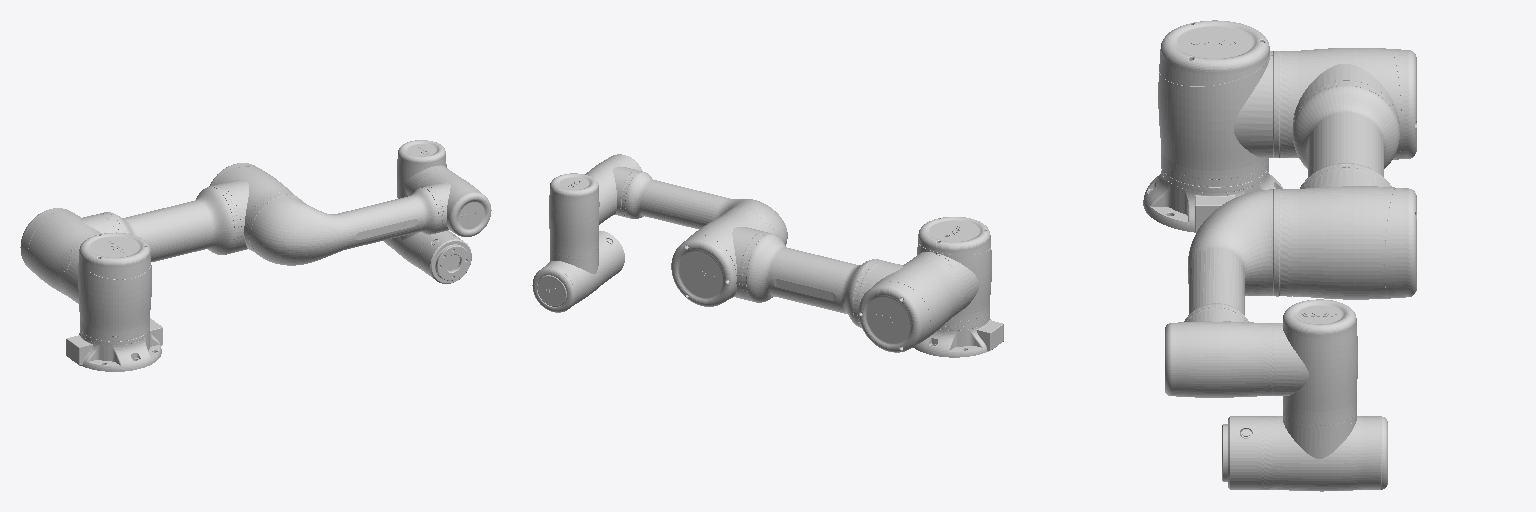
URDF robot description (jaka_zu7):
<?xml version="1.0" encoding="utf-8" ?>
<!-- This URDF was automatically created by SolidWorks to URDF Exporter! Originally created by [author] ([email redacted]) 
     Commit Version: 1.5.1-0-g916b5db  Build Version: 1.5.7152.31018
     For more information, please see http://wiki.ros.org/sw_urdf_exporter -->
<robot name="jaka_zu7">
    <!-- LINK -->
    <link name="world" />

    <link name="Link_0">     
        <inertial>
            <origin xyz="0.00096371 8.8222E-08 0.019555" rpy="0 0 0" />
            <mass value="4.0392" />
            <inertia ixx="0.0048763" ixy="-1.8056E-07" ixz="2.5196E-05" iyy="0.0068003" iyz="-1.7678E-09" izz="0.010618" />
        </inertial>

        <visual>
            <origin xyz="0 0 0" rpy="0 0 0" />
            <geometry>
                <mesh filename="package://jaka_description/meshes/jaka_zu7_meshes/Link_0.STL" />
            </geometry>
            <material name="">
                <color rgba="0.84706 0.84706 0.84706 1" />
            </material>
        </visual>
        <collision>
            <origin xyz="0 0 0" rpy="0 0 0" />
            <geometry>
                <mesh filename="package://jaka_description/meshes/jaka_zu7_meshes/Link_0.STL" />
            </geometry>
        </collision>
    </link>

    <link name="Link_1">   
        <inertial>
            <origin xyz="-2.5186E-07 0.0033226 -0.001509" rpy="0 0 0" />
            <mass value="15.135" />
            <inertia ixx="0.044302" ixy="1.5349E-07" ixz="-6.1966E-07" iyy="0.043091" iyz="1.4326E-05" izz="0.030523" />
        </inertial>

        <visual>
            <origin xyz="0 0 0" rpy="0 0 0" />
            <geometry>
                <mesh filename="package://jaka_description/meshes/jaka_zu7_meshes/Link_1.STL" />
            </geometry>
            <material name="">
                <color rgba="0.84706 0.84706 0.84706 1" />
            </material>
        </visual>
        <collision>
            <origin xyz="0 0 0" rpy="0 0 0" />
            <geometry>
                <mesh filename="package://jaka_description/meshes/jaka_zu7_meshes/Link_1.STL" />
            </geometry>
        </collision>
    </link>

    <link name="Link_2">       
        <inertial>
            <origin xyz="0.18 8.8001E-09 -0.14308" rpy="0 0 0" />
            <mass value="42.872" />
            <inertia ixx="0.1014" ixy="-1.1106E-06" ixz="-1.3363E-07" iyy="1.1119" iyz="2.9045E-08" izz="1.0844" />
        </inertial>

        <visual>
            <origin xyz="0 0 0" rpy="0 0 0" />
            <geometry>
                <mesh filename="package://jaka_description/meshes/jaka_zu7_meshes/Link_2.STL" />
            </geometry>
            <material name="">
                <color rgba="0.84706 0.84706 0.84706 1" />
            </material>
        </visual>
        <collision>
            <origin xyz="0 0 0" rpy="0 0 0" />
            <geometry>
                <mesh filename="package://jaka_description/meshes/jaka_zu7_meshes/Link_2.STL" />
            </geometry>
        </collision>
    </link>

    <link name="Link_3">    
        <inertial>
            <origin xyz="0.15515 5.4643E-08 -0.012576" rpy="0 0 0" />
            <mass value="16.562" />
            <inertia ixx="0.020968" ixy="-3.9001E-06" ixz="-0.018394" iyy="0.28365" iyz="-1.2859E-07" izz="0.27848" />
        </inertial>

        <visual>
            <origin xyz="0 0 0" rpy="0 0 0" />
            <geometry>
                <mesh filename="package://jaka_description/meshes/jaka_zu7_meshes/Link_3.STL" />
            </geometry>
            <material name="">
                <color rgba="0.84706 0.84706 0.84706 1" />
            </material>
        </visual>
        <collision>
            <origin xyz="0 0 0" rpy="0 0 0" />
            <geometry>
                <mesh filename="package://jaka_description/meshes/jaka_zu7_meshes/Link_3.STL" />
            </geometry>
        </collision>
    </link>

    <link name="Link_4">     
        <inertial>
            <origin xyz="-2.1345E-06 -0.0058004 0.0026717" rpy="0 0 0" />
            <mass value="5.5525" />
            <inertia ixx="0.0092564" ixy="1.1341E-07" ixz="-1.2578E-08" iyy="0.0052251" iyz="-8.3499E-05" izz="0.0089683" />
        </inertial>

        <visual>
            <origin xyz="0 0 0" rpy="0 0 0" />
            <geometry>
                <mesh filename="package://jaka_description/meshes/jaka_zu7_meshes/Link_4.STL" />
            </geometry>
            <material name="">
                <color rgba="0.84706 0.84706 0.84706 1" />
            </material>
        </visual>
        <collision>
            <origin xyz="0 0 0" rpy="0 0 0" />
            <geometry>
                <mesh filename="package://jaka_description/meshes/jaka_zu7_meshes/Link_4.STL" />
            </geometry>
        </collision>
    </link>

    <link name="Link_5">     
        <inertial>
            <origin xyz="-2.0304E-06 -0.0028889 -0.0023424" rpy="0 0 0" />
            <mass value="6.3339" />
            <inertia ixx="0.012993" ixy="-1.0764E-07" ixz="5.8559E-09" iyy="0.0058454" iyz="4.5426E-05" izz="0.0127" />
        </inertial>

        <visual>
            <origin xyz="0 0 0" rpy="0 0 0" />
            <geometry>
                <mesh filename="package://jaka_description/meshes/jaka_zu7_meshes/Link_5.STL" />
            </geometry>
            <material name="">
                <color rgba="0.84706 0.84706 0.84706 1" />
            </material>
        </visual>
        <collision>
            <origin xyz="0 0 0" rpy="0 0 0" />
            <geometry>
                <mesh filename="package://jaka_description/meshes/jaka_zu7_meshes/Link_5.STL" />
            </geometry>
        </collision>
    </link>

    <link name="Link_6">  
        <inertial>
            <origin xyz="2.7652E-05 -1.3485E-05 -0.021245" rpy="0 0 0" />
            <mass value="1.4169" />
            <inertia ixx="0.00071853" ixy="-6.9778E-07" ixz="-6.378E-07" iyy="0.00072375" iyz="8.3072E-07" izz="0.0011337" />
        </inertial>

        <visual>
            <origin xyz="0 0 0" rpy="0 0 0" />
            <geometry>
                <mesh filename="package://jaka_description/meshes/jaka_zu7_meshes/Link_6.STL" />
            </geometry>
            <material name="">
                <color rgba="0.84706 0.84706 0.84706 1" />
            </material>
        </visual>
        <collision>
            <origin xyz="0 0 0" rpy="0 0 0" />
            <geometry>
                <mesh filename="package://jaka_description/meshes/jaka_zu7_meshes/Link_6.STL" />
            </geometry>
        </collision>
    </link>

    <!-- JOINT -->
    <joint name="fixed" type="fixed">
        <parent link="world" />
        <child link="Link_0" />
    </joint>

    <joint name="joint_1" type="revolute">
        <origin xyz="0 0 0.12015" rpy="0 0 0" />
        <parent link="Link_0" />
        <child link="Link_1" />
        <axis xyz="0 0 1" />
        <limit lower="-6.28" upper="6.28" effort="2000" velocity="3.14" />
    </joint>

    <joint name="joint_2" type="revolute">
        <origin xyz="0 0 0" rpy="1.5708 0 0" />
        <parent link="Link_1" />
        <child link="Link_2" />
        <axis xyz="0 0 1" />
        <limit lower="-1.48" upper="4.62" effort="1500" velocity="3.14" />
    </joint>

    <joint name="joint_3" type="revolute">
        <origin xyz="0.36 0 0" rpy="0 0 0" />
        <parent link="Link_2" />
        <child link="Link_3" />
        <axis xyz="0 0 1" />
        <limit lower="-3.05" upper="3.05" effort="1500" velocity="3.14" />
    </joint>

    <joint name="joint_4" type="revolute">
        <origin xyz="0.30353 0 -0.11501" rpy="0 0 0" />
        <parent link="Link_3" />
        <child link="Link_4" />
        <axis xyz="0 0 1" />
        <limit lower="-1.48" upper="4.62" effort="1000" velocity="3.14" />
    </joint>

    <joint name="joint_5" type="revolute">
        <origin xyz="0 -0.1135 0" rpy="1.5708 0 0" />
        <parent link="Link_4" />
        <child link="Link_5" />
        <axis xyz="0 0 1" />
        <limit lower="-6.28" upper="6.28" effort="1000" velocity="3.14" />
    </joint>
    
    <joint name="joint_6" type="revolute">
        <origin xyz="0 0.107 0" rpy="-1.5708 0 0" />
        <parent link="Link_5" />
        <child link="Link_6" />
        <axis xyz="0 0 1" />
        <limit lower="-6.28" upper="6.28" effort="1000" velocity="3.14" />
    </joint>
    
    <transmission name="trans_joint_1">
        <type>transmission_interface/SimpleTransmission</type>
        <joint name="joint_1">
            <hardwareInterface>hardware_interface/PositionJointInterface</hardwareInterface>
        </joint>
        <actuator name="joint_1_motor">
            <hardwareInterface>hardware_interface/PositionJointInterface</hardwareInterface>
            <mechanicalReduction>1</mechanicalReduction>
        </actuator>
    </transmission>
    <transmission name="trans_joint_2">
        <type>transmission_interface/SimpleTransmission</type>
        <joint name="joint_2">
            <hardwareInterface>hardware_interface/PositionJointInterface</hardwareInterface>
        </joint>
        <actuator name="joint_2_motor">
            <hardwareInterface>hardware_interface/PositionJointInterface</hardwareInterface>
            <mechanicalReduction>1</mechanicalReduction>
        </actuator>
    </transmission>
    <transmission name="trans_joint_3">
        <type>transmission_interface/SimpleTransmission</type>
        <joint name="joint_3">
            <hardwareInterface>hardware_interface/PositionJointInterface</hardwareInterface>
        </joint>
        <actuator name="joint_3_motor">
            <hardwareInterface>hardware_interface/PositionJointInterface</hardwareInterface>
            <mechanicalReduction>1</mechanicalReduction>
        </actuator>
    </transmission>
    <transmission name="trans_joint_4">
        <type>transmission_interface/SimpleTransmission</type>
        <joint name="joint_4">
            <hardwareInterface>hardware_interface/PositionJointInterface</hardwareInterface>
        </joint>
        <actuator name="joint_4_motor">
            <hardwareInterface>hardware_interface/PositionJointInterface</hardwareInterface>
            <mechanicalReduction>1</mechanicalReduction>
        </actuator>
    </transmission>
    <transmission name="trans_joint_5">
        <type>transmission_interface/SimpleTransmission</type>
        <joint name="joint_5">
            <hardwareInterface>hardware_interface/PositionJointInterface</hardwareInterface>
        </joint>
        <actuator name="joint_5_motor">
            <hardwareInterface>hardware_interface/PositionJointInterface</hardwareInterface>
            <mechanicalReduction>1</mechanicalReduction>
        </actuator>
    </transmission>
    <transmission name="trans_joint_6">
        <type>transmission_interface/SimpleTransmission</type>
        <joint name="joint_6">
            <hardwareInterface>hardware_interface/PositionJointInterface</hardwareInterface>
        </joint>
        <actuator name="joint_6_motor">
            <hardwareInterface>hardware_interface/PositionJointInterface</hardwareInterface>
            <mechanicalReduction>1</mechanicalReduction>
        </actuator>
    </transmission>
    <gazebo>
        <plugin name="gazebo_ros_control" filename="libgazebo_ros_control.so">
            <robotNamespace>/</robotNamespace>
            <!-- <robotSimType>gazebo_ros_control/DefaultRobotHWSim</robotSimType>
            <legacyModeNS>true</legacyModeNS> -->
        </plugin>
    </gazebo>
</robot>

--- What the picture shows (computed from the rendered views, not written in the file) ---
The picture shows the robot from 3 angles, left to right: view 1: azimuth 30°, elevation 25°; view 2: azimuth 150°, elevation 25°; view 3: azimuth 270°, elevation 25°; orthographic projection.
Model jaka_zu7 with 8 links and 7 joints (6 revolute, 1 fixed), rooted at world, posed all joints at 0.
Links seen in each view (by area): view 1: Link_2, Link_3, Link_1, Link_0, Link_6, Link_4, Link_5; view 2: Link_2, Link_3, Link_1, Link_4, Link_5, Link_0; view 3: Link_2, Link_1, Link_3, Link_4, Link_5, Link_0, Link_6.
Boxes of the visible links, x1,y1,x2,y2 form: Link_2: (20,163,297,300); Link_3: (251,167,491,265); Link_1: (66,233,151,344); Link_0: (66,318,162,371); Link_6: (421,233,471,283); Link_4: (397,140,447,198); Link_5: (384,230,454,273); Link_2: (671,208,965,352); Link_3: (585,154,787,245); Link_1: (917,217,991,330); Link_4: (549,173,608,259); Link_5: (532,240,615,312); Link_0: (913,318,1003,357); Link_2: (1273,48,1416,299); Link_1: (1158,20,1272,192); Link_3: (1165,189,1277,397); Link_4: (1278,299,1357,430); Link_5: (1258,416,1387,491); Link_0: (1143,170,1282,232); Link_6: (1222,416,1257,489).
Size in the robot's own frame: 0.7877 by 0.3007 by 0.2332 metres.
Meshes: 7 distinct files referenced, 7 mesh visuals loaded (7 binary STL).
